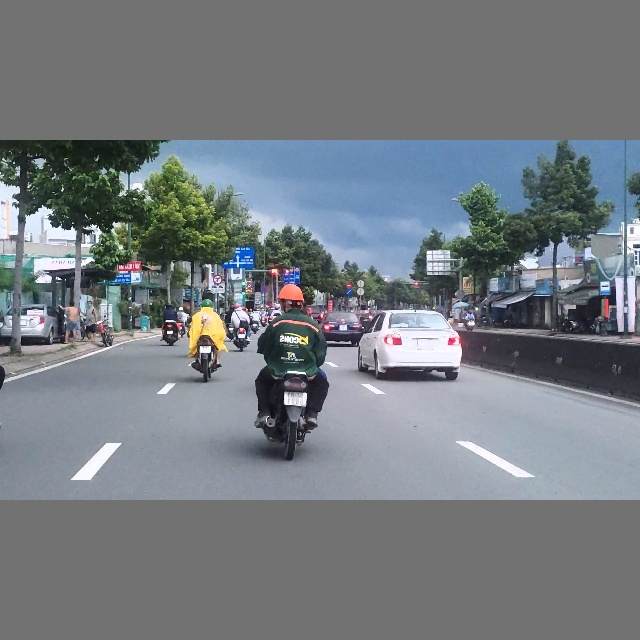P.102: (346, 283, 352, 289)
P.137: (213, 275, 222, 284)
R.302a: (346, 289, 352, 295)
R.415a: (284, 272, 300, 285)
